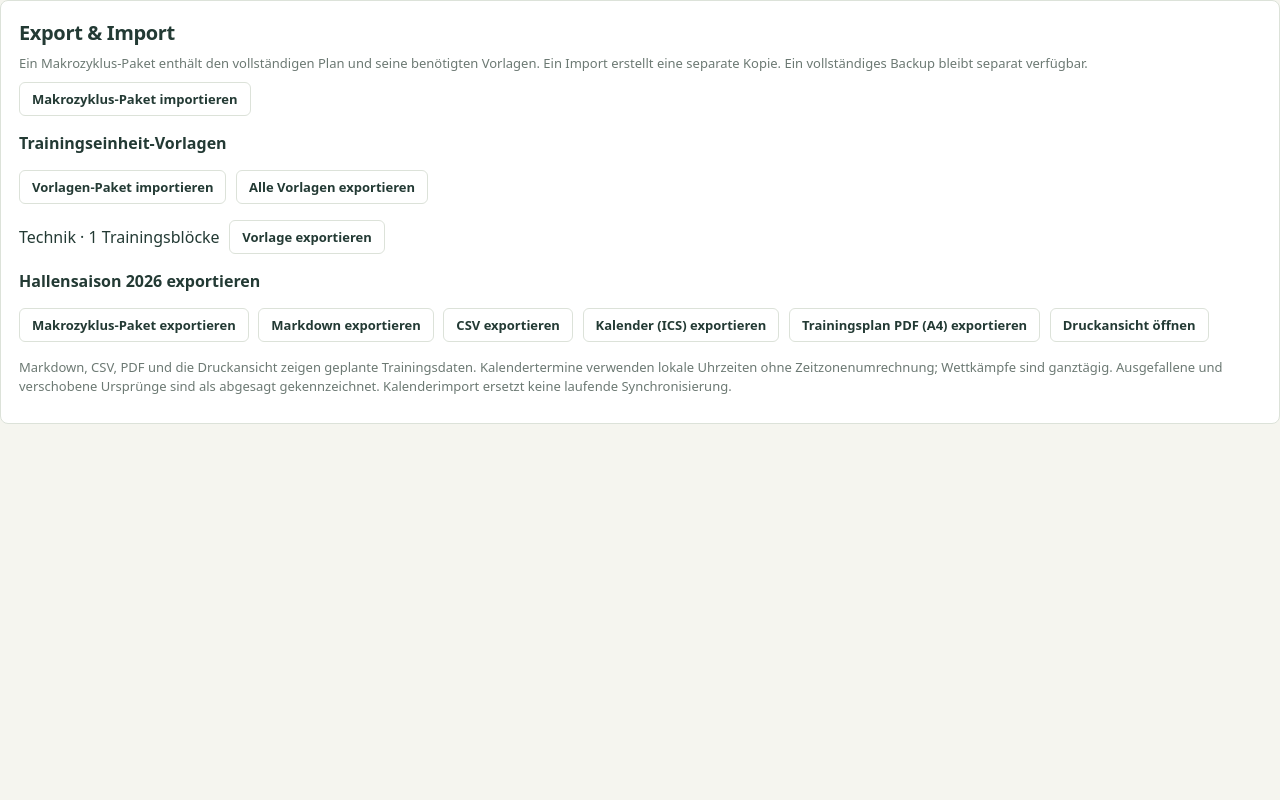
it: export/import rendered acceptance › reports native cancellation/errors and rejects previews after edits
Click the button "Makrozyklus-Paket importieren" at (135, 98), box [19,82,250,116]
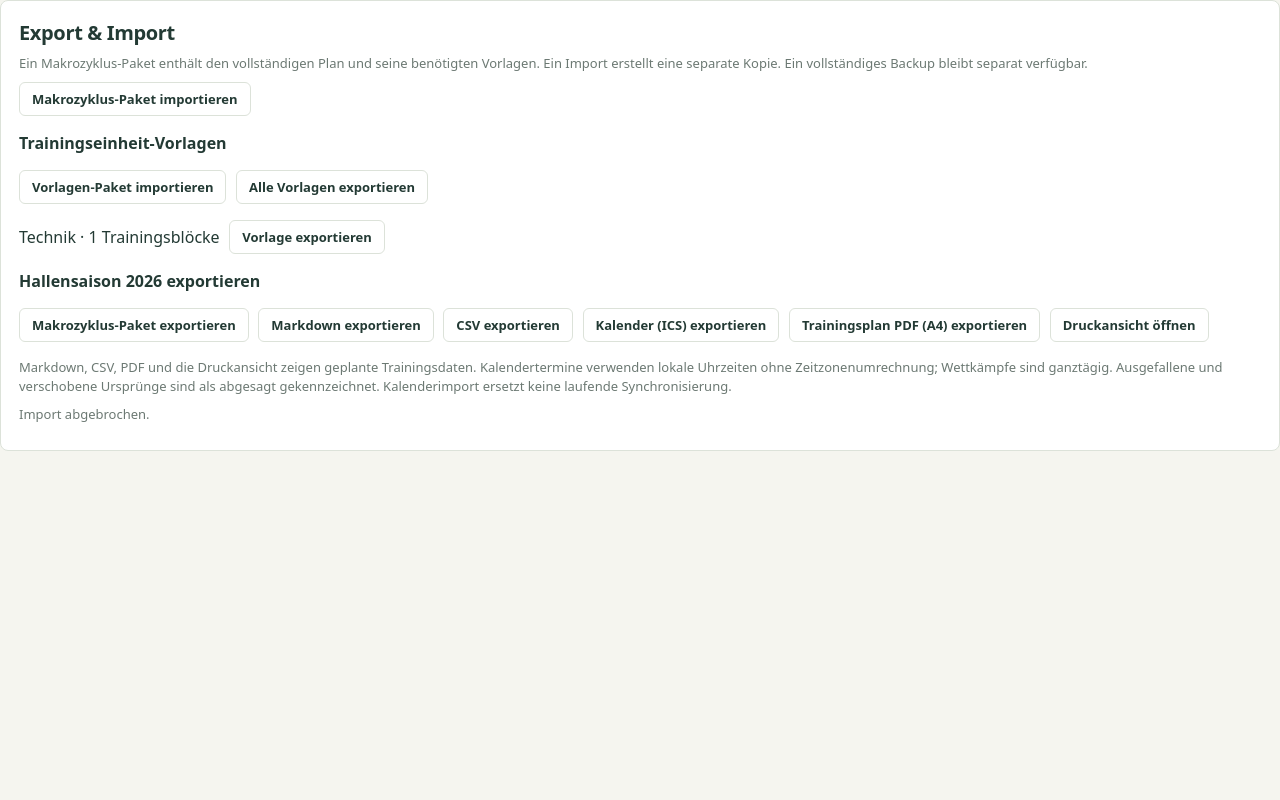
expect the text "Import abgebrochen" is shown: met, box [19,404,150,422]
Click the button "Makrozyklus-Paket importieren" at (135, 98), box [19,82,250,116]
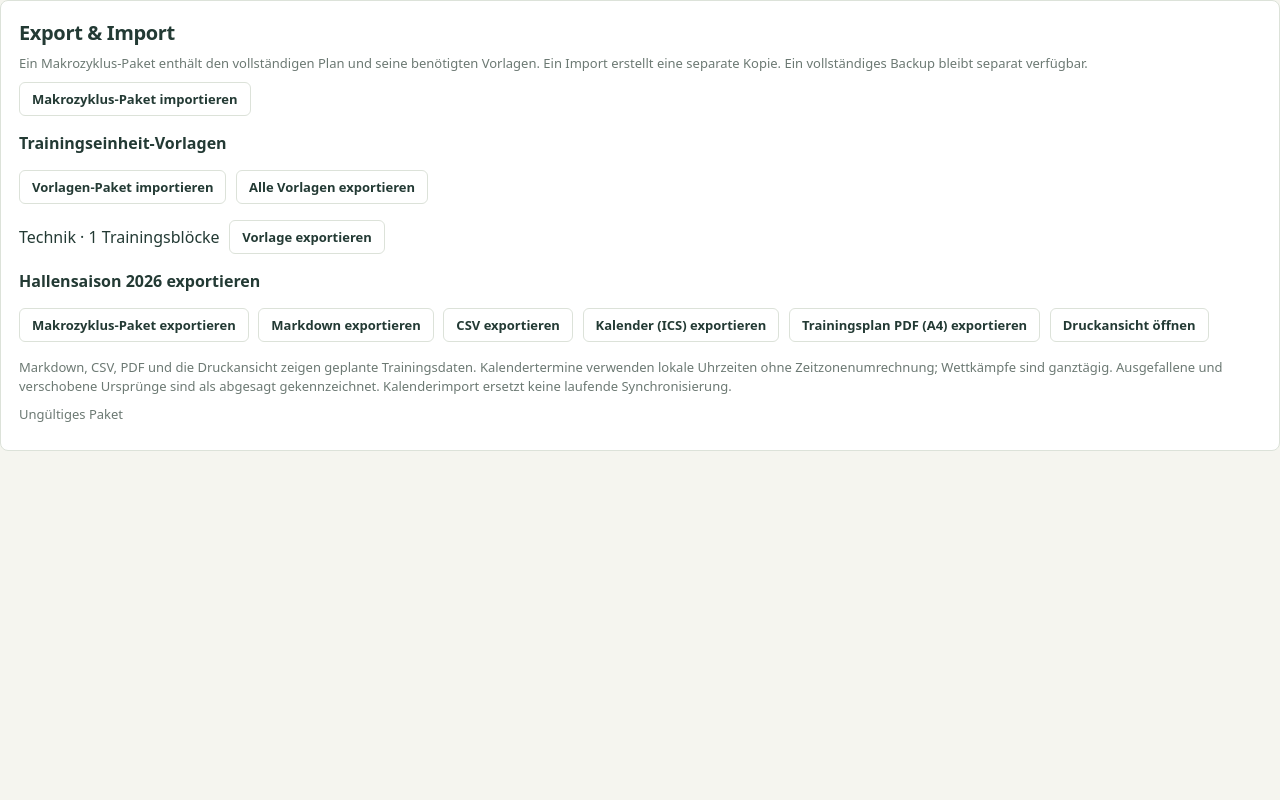
expect the text "Ungültiges Paket" is shown: met, box [19,404,123,422]
Click the button "Makrozyklus-Paket importieren" at (135, 98), box [19,82,250,116]
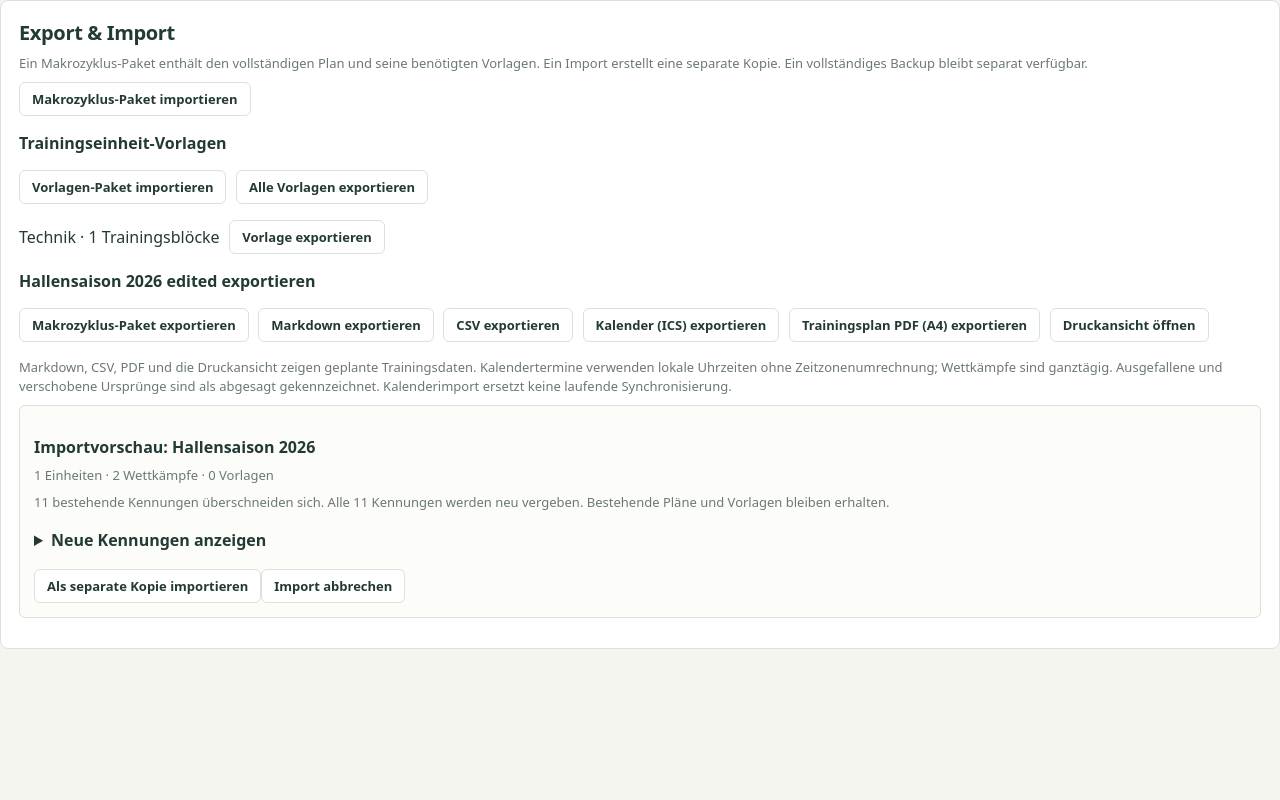
expect the button "Als separate Kopie importieren" is shown: met
Click the button "Als separate Kopie importieren" at (148, 586), box [34,568,261,602]
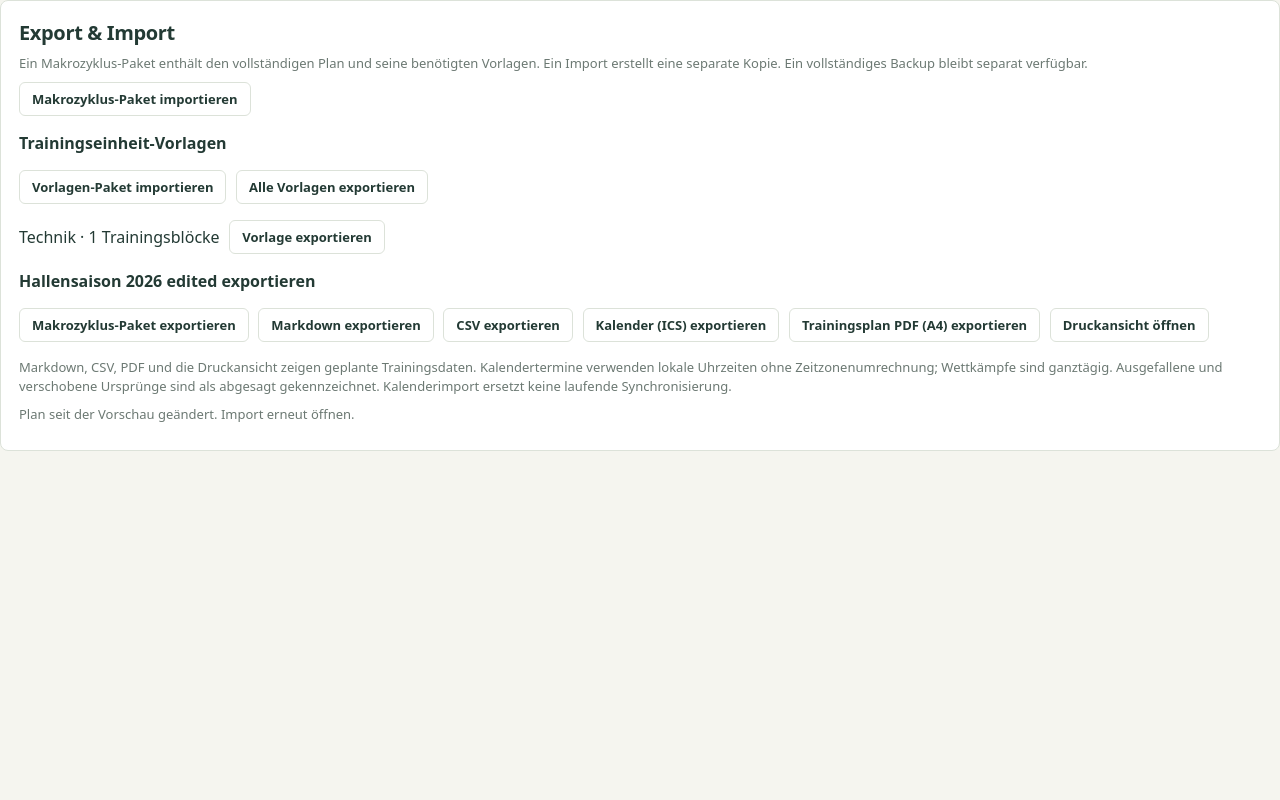
expect the text "geändert" is shown: met, box [19,404,355,422]
